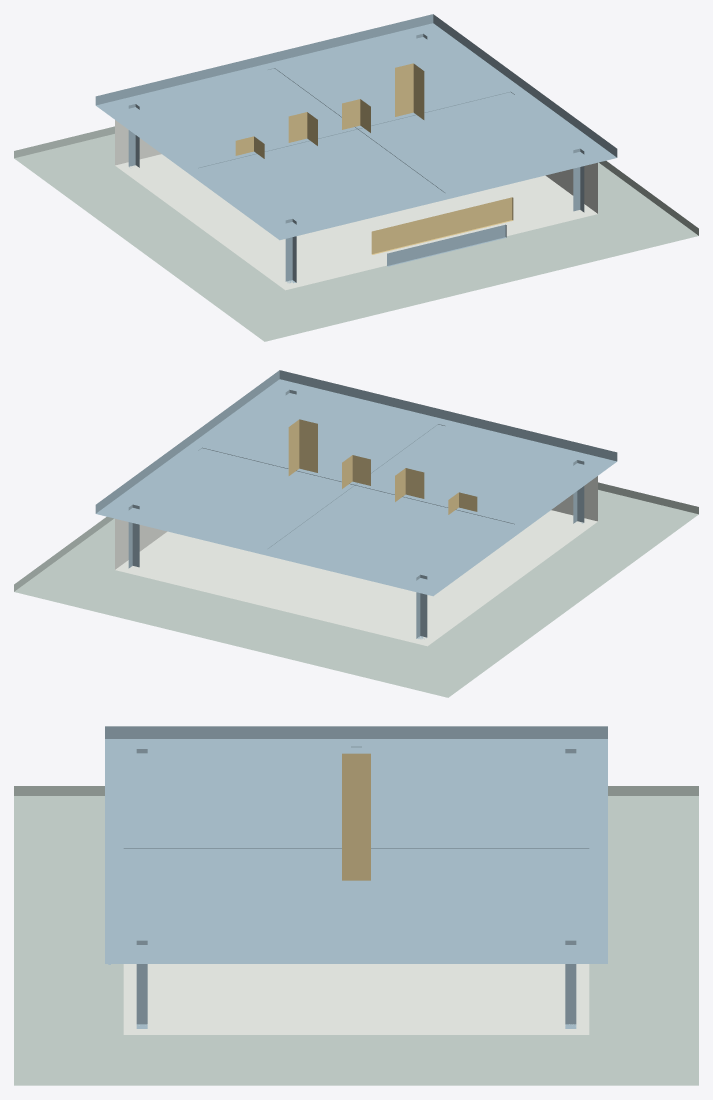
Rendered from hardware_store.glb.
3 views of the same model, one above another, from view 1: azimuth 30°, elevation 25°; view 2: azimuth 150°, elevation 25°; view 3: azimuth 270°, elevation 25° (orthographic). The views are drawn at different scales.
Parts seen in each view (by area): view 1: Roof, Foundation, Walls, Details, Frame; view 2: Roof, Foundation, Walls, Details, Frame; view 3: Roof, Foundation, Walls, Details, Frame.
Part boxes in pixels (x1,y1,x2,y2): Roof: (95,14,617,240); Foundation: (14,126,698,341); Walls: (115,120,597,290); Details: (235,63,513,266); Frame: (128,33,584,283); Roof: (95,370,617,596); Foundation: (14,482,698,697); Walls: (115,476,597,646); Details: (288,419,477,514); Frame: (128,389,584,639); Roof: (105,726,607,963); Foundation: (14,786,698,1085); Walls: (123,964,589,1034); Details: (108,753,370,964); Frame: (123,746,589,1028).
Size of the model in its own units: 40 by 10.1 by 40.
